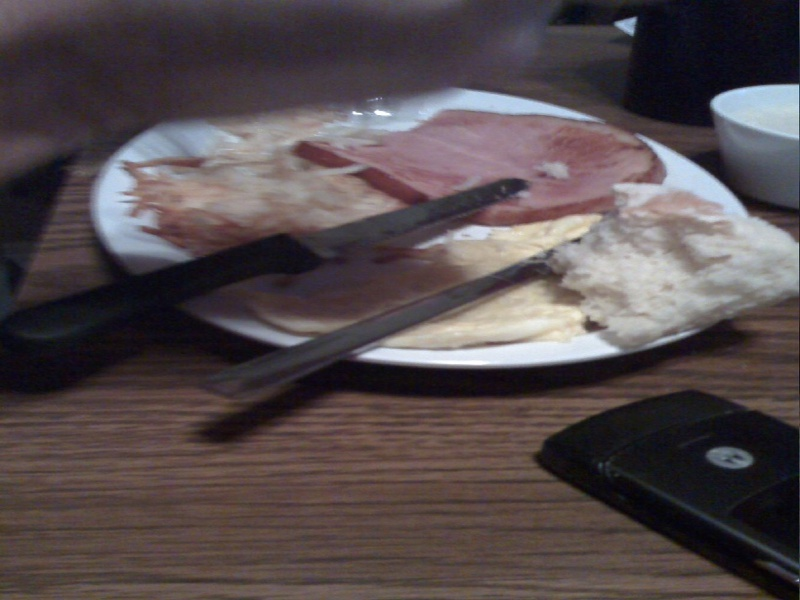knife: (1, 175, 529, 383)
